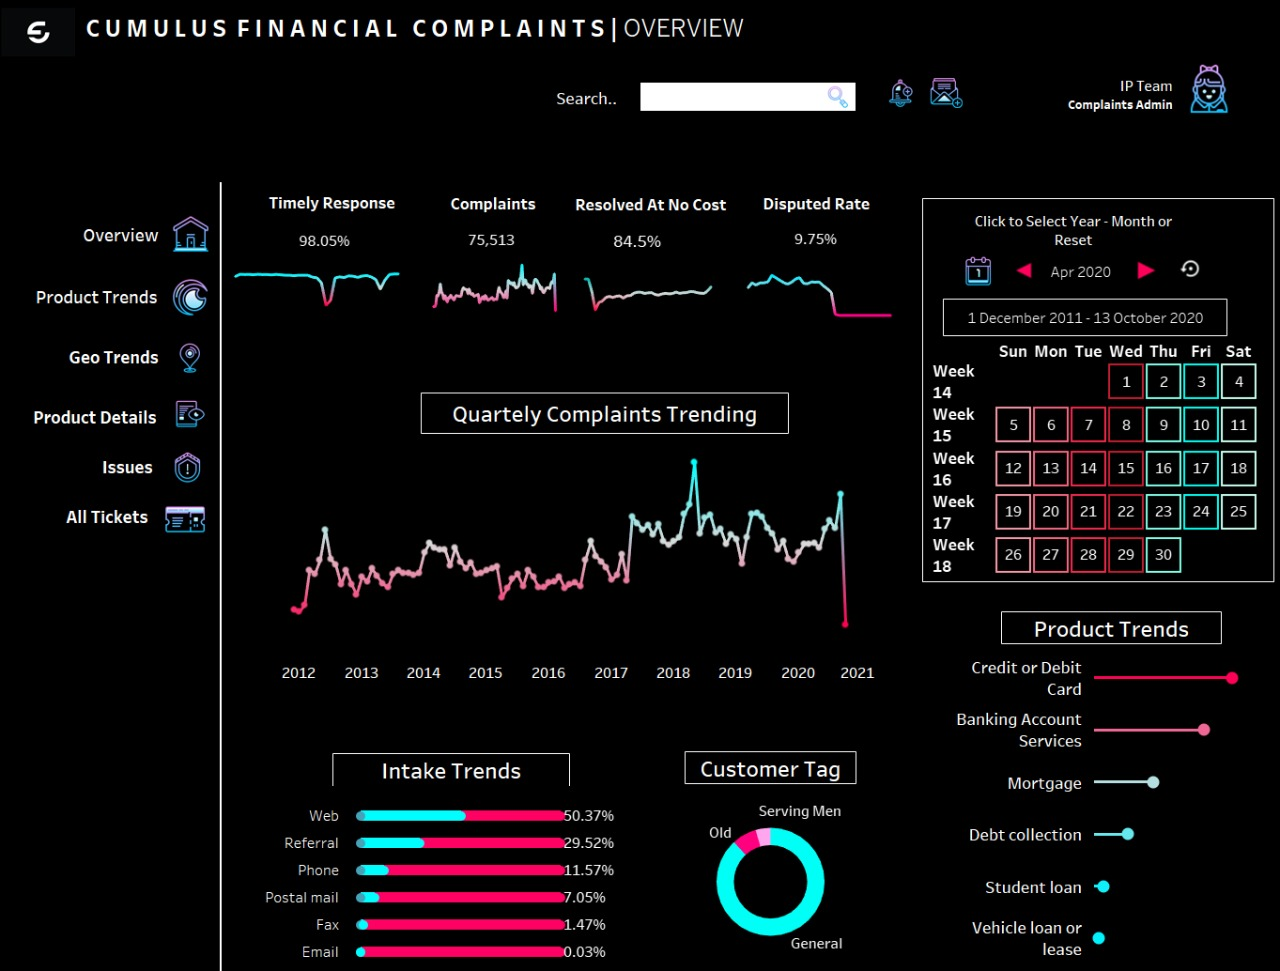

This screenshot's page, from the dashboard's own definition file:
{"tool":"tableau","page":{"name":"OverView","canvas":[1400,1200],"ordinal":2},"visuals":[{"type":"image","box":[8,8,1384,1184]},{"type":"text","box":[106,33,785,59]},{"type":"text","box":[896,37.2,466,462]},{"type":"image","param":"Image/360_F_396950188_ydxRS4NYfG9m2hhmGrhLL0HtvlkpDrM2.jpg","box":[19,39,79,73]},{"type":"image","param":"Image/icons8-businesswoman-64.png","box":[1274,99,86,69]},{"type":"text","box":[1039,111,231,58]},{"type":"image","param":"Image/icons8-add-reminder-64.png","box":[959,114,36,49]},{"type":"image","param":"Image/icons8-add-mail-64.png","box":[1007,116,36,42]},{"type":"text","box":[607,126,100,36]},{"type":"image","param":"Image/icons8-search-more-64.png","box":[896,128,33,31]},{"type":"text","box":[301,248,140,36]},{"type":"text","box":[487,249,103,36]},{"type":"text","box":[827,249,121,36]},{"type":"text","box":[627,252,168,30]},{"type":"dashboard-object","box":[198,273.6,46,57.6]},{"type":"text","box":[1037,274,248,49]},{"type":"worksheet","title":"Title-Resolved at no cost","mark":"Automatic","box":[666,280,123,56]},{"type":"worksheet","title":"% Disputed","mark":"Automatic","rows":["Consumer disputed?"],"box":[859,284,54,48]},{"type":"text","box":[103,284.4,97,36]},{"type":"worksheet","title":"BAN - % Timely","mark":"Automatic","box":[332,286,63,47]},{"type":"worksheet","title":"BAN - # of Comp","mark":"Automatic","box":[510,298,63,36]},{"type":"worksheet","title":"Select Year","mark":"Shape","cols":["Date"],"box":[978,303.6,302,63.6]},{"type":"worksheet","title":"Reset Calander","mark":"Shape","box":[1267,319,37,48]},{"type":"dashboard-object","box":[1041,322,37,47]},{"type":"worksheet","title":"Resolved At No Cost","mark":"Line","rows":["# of monetary relief (copy)_982066241862742017"],"cols":["Date sent to company"],"box":[632,331,151,122]},{"type":"worksheet","title":"Quarterly Trending - KPI","mark":"Automatic","rows":["Complaint ID (copy)_2064900483920195585"],"cols":["Date sent to company"],"box":[471,333,146,69]},{"type":"worksheet","title":"Previous Month Arrow","mark":"Shape","box":[1098,333,20,24]},{"type":"worksheet","title":"Next Month Arrow","mark":"Shape","box":[1229,333,20,24]},{"type":"worksheet","title":"Month Header","mark":"Automatic","box":[1120,334,97,24]},{"type":"worksheet","title":"Timely Response Rate","mark":"Automatic","rows":["Calculation_2064900483927932930"],"cols":["Date sent to company"],"box":[257,335,196,73]},{"type":"worksheet","title":"% Disputed - KPI","mark":"Automatic","rows":["Calculation_90353522964656137"],"cols":["Date received"],"box":[805,346,170,54]},{"type":"dashboard-object","box":[197,350.4,47,51.6]},{"type":"text","box":[51,360,138,30]},{"type":"worksheet","title":"Select Month","mark":"Shape","rows":["Calculation_1516868704712544277"],"cols":["Calculation_1516868704712429588"],"box":[978,367.2,302,190.8]},{"type":"worksheet","title":"Selected Date","mark":"Automatic","box":[1022,377,303,44]},{"type":"dashboard-object","box":[201,412.8,38,69.6]},{"type":"text","box":[88,426,100,36]},{"type":"worksheet","title":"Calander Picker","mark":"Shape","rows":["Date"],"cols":["Date"],"box":[1005,427,352,274]},{"type":"dashboard-object","box":[202,483.6,37,55.2]},{"type":"text","box":[466,487,392,48]},{"type":"text","box":[29,498,159,31.2]},{"type":"dashboard-object","box":[198,538.8,39,68.4]},{"type":"worksheet","title":"Quarterly Trending","mark":"Automatic","rows":["Complaint ID (copy)_2064900483920195585"],"cols":["Date sent to company","Date sent to company"],"box":[298,552,653,269]},{"type":"text","box":[84,554.4,100,36]},{"type":"dashboard-object","box":[187,608.4,56,50.4]},{"type":"text","box":[79,612,100,36]},{"type":"text","box":[1084,741,235,38]},{"type":"worksheet","title":"Products - Complaints","mark":"Automatic","cols":["Complaint ID (copy)_2064900483920195585","Complaint ID (copy)_2064900483920195585"],"box":[1014,787,331,366]},{"type":"text","box":[747,903,183,38]},{"type":"text","box":[372,905,253,39]},{"type":"worksheet","title":"Tag Percentage","mark":"Pie","cols":["Calculation_2064900483934035974","Calculation_2064900483934035974"],"box":[748,960,181,190]},{"type":"worksheet","title":"Medium","mark":"Automatic","rows":["Submitted via"],"box":[283,961,421,192]},{"type":"text","box":[120,1038,111,36]},{"type":"text","box":[94,1080,45,36]}]}

Visuals, with their boxes on the page's 1400x1200 design canvas (x1, y1, x2, y2). These are canvas units, not pixel positions in the 1280x971 screenshot, which may show the page scaled, cropped or inside an application window:
image: left=8, top=8, right=1392, bottom=1192
text: left=106, top=33, right=891, bottom=92
text: left=896, top=37, right=1362, bottom=499
image: left=19, top=39, right=98, bottom=112
image: left=1274, top=99, right=1360, bottom=168
text: left=1039, top=111, right=1270, bottom=169
image: left=959, top=114, right=995, bottom=163
image: left=1007, top=116, right=1043, bottom=158
text: left=607, top=126, right=707, bottom=162
image: left=896, top=128, right=929, bottom=159
text: left=301, top=248, right=441, bottom=284
text: left=487, top=249, right=590, bottom=285
text: left=827, top=249, right=948, bottom=285
text: left=627, top=252, right=795, bottom=282
dashboard-object: left=198, top=274, right=244, bottom=331
text: left=1037, top=274, right=1285, bottom=323
"Title-Resolved at no cost" worksheet: left=666, top=280, right=789, bottom=336
"% Disputed" worksheet: left=859, top=284, right=913, bottom=332
text: left=103, top=284, right=200, bottom=320
"BAN - % Timely" worksheet: left=332, top=286, right=395, bottom=333
"BAN - # of Comp" worksheet: left=510, top=298, right=573, bottom=334
"Select Year" worksheet (Shape marks): left=978, top=304, right=1280, bottom=367
"Reset Calander" worksheet (Shape marks): left=1267, top=319, right=1304, bottom=367
dashboard-object: left=1041, top=322, right=1078, bottom=369
"Resolved At No Cost" worksheet (Line marks): left=632, top=331, right=783, bottom=453
"Quarterly Trending - KPI" worksheet: left=471, top=333, right=617, bottom=402
"Previous Month Arrow" worksheet (Shape marks): left=1098, top=333, right=1118, bottom=357
"Next Month Arrow" worksheet (Shape marks): left=1229, top=333, right=1249, bottom=357
"Month Header" worksheet: left=1120, top=334, right=1217, bottom=358
"Timely Response Rate" worksheet: left=257, top=335, right=453, bottom=408
"% Disputed - KPI" worksheet: left=805, top=346, right=975, bottom=400
dashboard-object: left=197, top=350, right=244, bottom=402
text: left=51, top=360, right=189, bottom=390
"Select Month" worksheet (Shape marks): left=978, top=367, right=1280, bottom=558
"Selected Date" worksheet: left=1022, top=377, right=1325, bottom=421
dashboard-object: left=201, top=413, right=239, bottom=482
text: left=88, top=426, right=188, bottom=462
"Calander Picker" worksheet (Shape marks): left=1005, top=427, right=1357, bottom=701
dashboard-object: left=202, top=484, right=239, bottom=539
text: left=466, top=487, right=858, bottom=535
text: left=29, top=498, right=188, bottom=529
dashboard-object: left=198, top=539, right=237, bottom=607
"Quarterly Trending" worksheet: left=298, top=552, right=951, bottom=821
text: left=84, top=554, right=184, bottom=590
dashboard-object: left=187, top=608, right=243, bottom=659
text: left=79, top=612, right=179, bottom=648
text: left=1084, top=741, right=1319, bottom=779
"Products - Complaints" worksheet: left=1014, top=787, right=1345, bottom=1153
text: left=747, top=903, right=930, bottom=941
text: left=372, top=905, right=625, bottom=944
"Tag Percentage" worksheet (Pie marks): left=748, top=960, right=929, bottom=1150
"Medium" worksheet: left=283, top=961, right=704, bottom=1153
text: left=120, top=1038, right=231, bottom=1074
text: left=94, top=1080, right=139, bottom=1116
